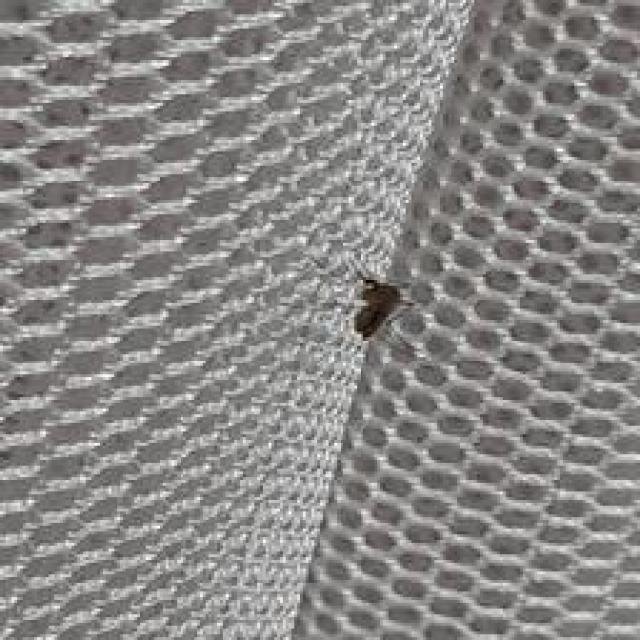Culex: (350, 273, 413, 341)
